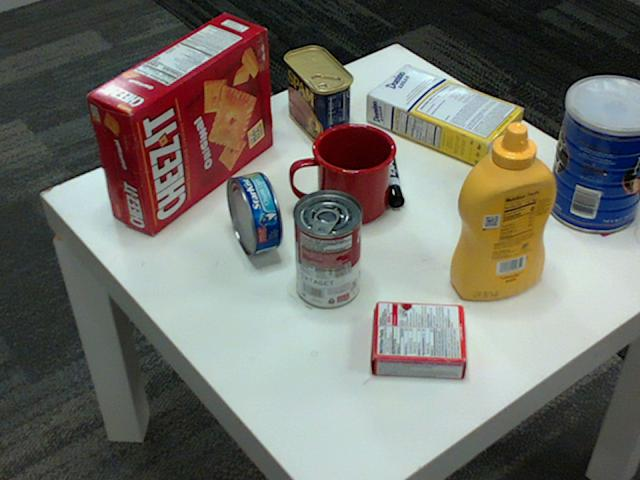cracker_box: (86, 10, 272, 232)
gelatin_box: (370, 302, 466, 381)
large_marker: (377, 139, 403, 207)
master_chef_can: (546, 76, 639, 233)
mug: (291, 121, 397, 223)
mustard_bottle: (449, 123, 557, 299)
potted_meat_can: (282, 46, 351, 145)
sugar_box: (367, 64, 526, 169)
tomato_soup_can: (293, 190, 363, 309)
tuna_fish_can: (227, 172, 282, 256)
